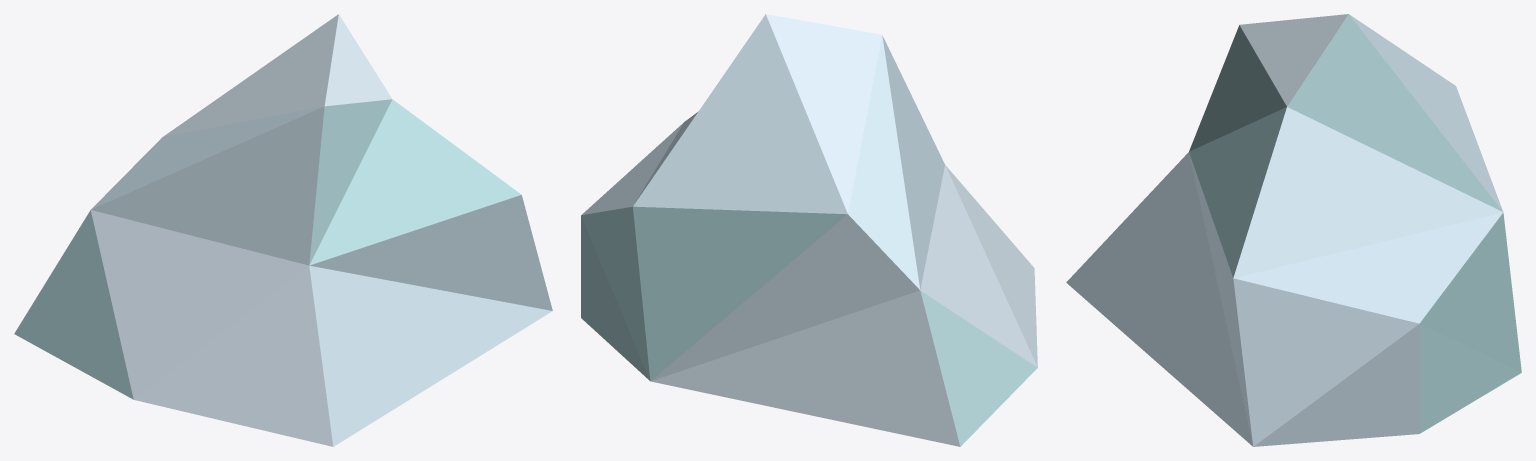
The model's file is Iceberg 3.fbx.
3 renders of one model, left to right at view 1: azimuth 30°, elevation 25°; view 2: azimuth 150°, elevation 25°; view 3: azimuth 270°, elevation 25°, orthographic. The views are drawn at different scales.
Visible parts, largest first — view 1: Iceberg 3; view 2: Iceberg 3; view 3: Iceberg 3.
Boxes of the visible parts, x1,y1,x2,y2 form: Iceberg 3: (14,14,552,446); Iceberg 3: (581,14,1037,446); Iceberg 3: (1066,14,1521,446).
Size of the model in its own units: 2439 by 1674 by 2031.
